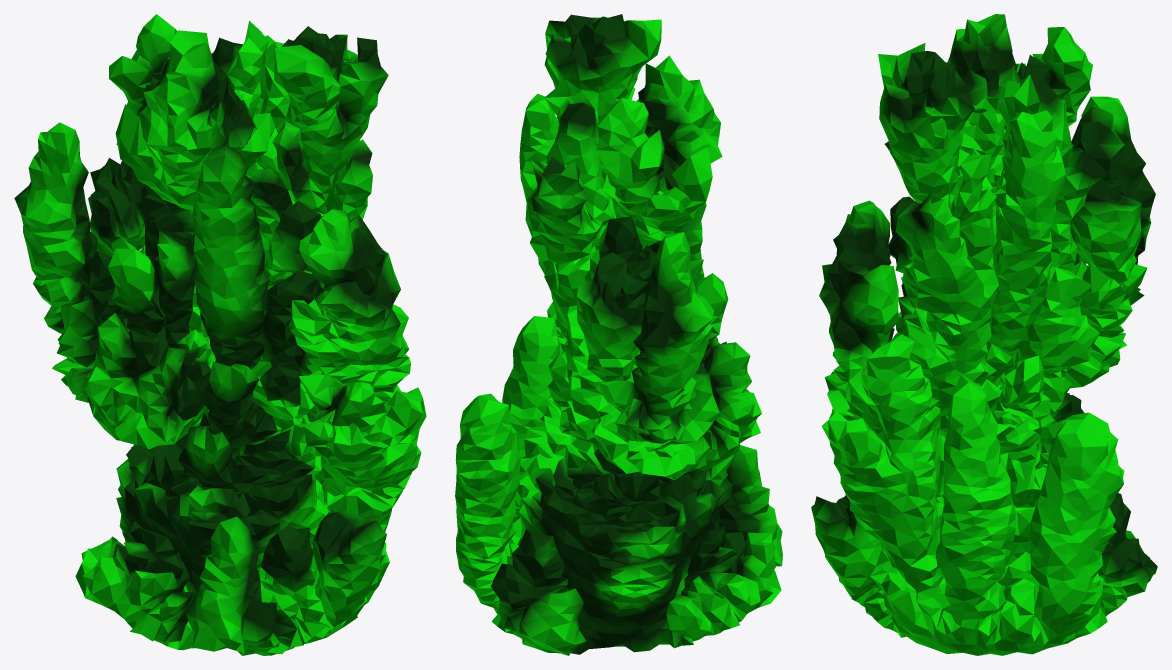
File: 66.coral.obj
3 views of the same model, side by side, from view 1: azimuth 30°, elevation 25°; view 2: azimuth 150°, elevation 25°; view 3: azimuth 270°, elevation 25° (orthographic). The views are drawn at different scales.
Size of the model in its own units: 3.48 by 6.78 by 3.66.
